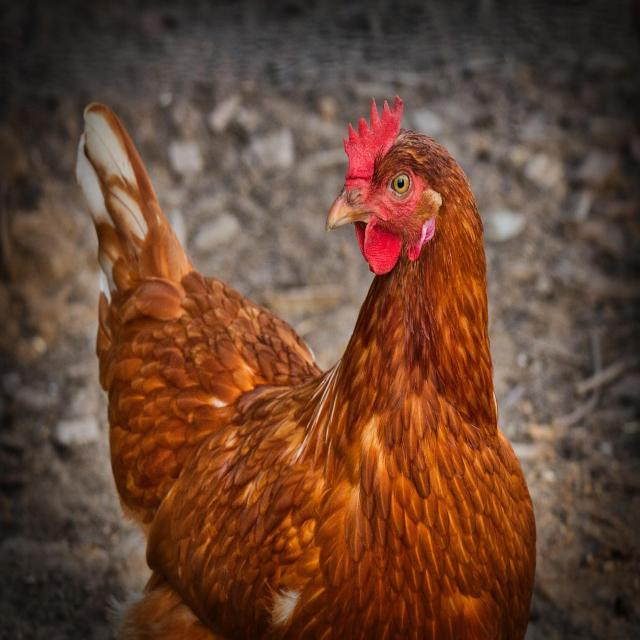Chicken: (85, 79, 554, 640)
